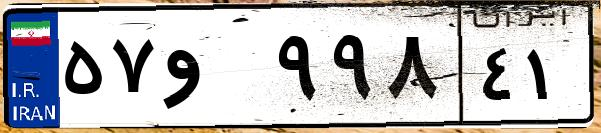1: (525, 38, 570, 115)
4: (475, 38, 525, 113)
5: (57, 26, 110, 100)
7: (110, 28, 158, 98)
8: (385, 28, 445, 110)
9: (270, 28, 330, 110), (330, 28, 385, 110)
و: (158, 20, 270, 120)
